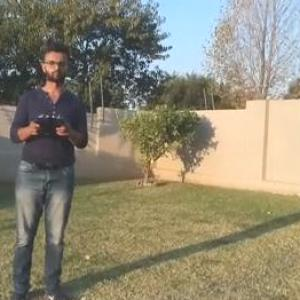follow: (0, 35, 94, 299)
